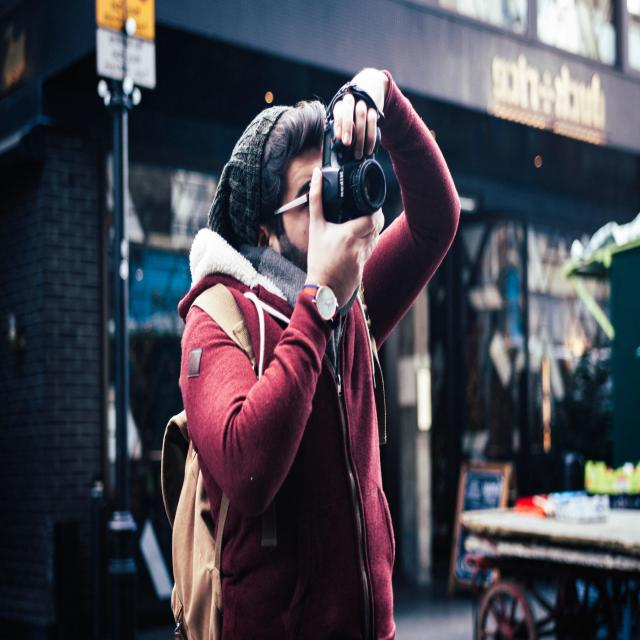adult: (177, 63, 465, 640)
